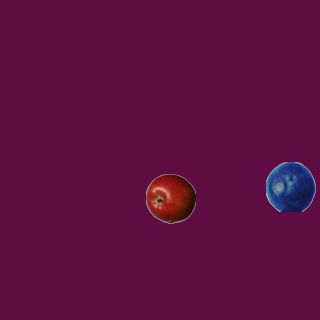Apple Braeburn: (145, 173, 195, 223)
Huckleberry: (265, 161, 315, 211)
